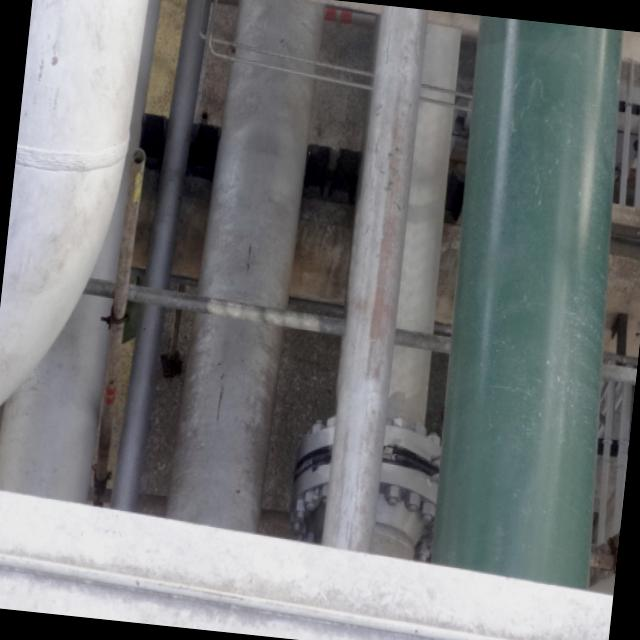gas: (426, 16, 631, 578), (180, 0, 320, 539), (368, 14, 484, 566), (0, 0, 154, 393), (323, 4, 429, 548), (107, 0, 209, 509), (0, 395, 91, 502)
